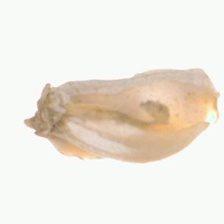L1: (22, 84, 60, 136), (197, 68, 221, 133)
L2: (24, 68, 220, 165)
